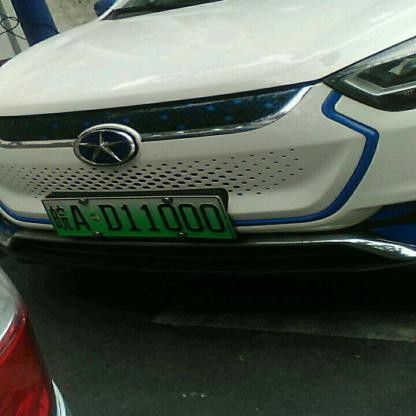lp: (42, 194, 60, 238)
